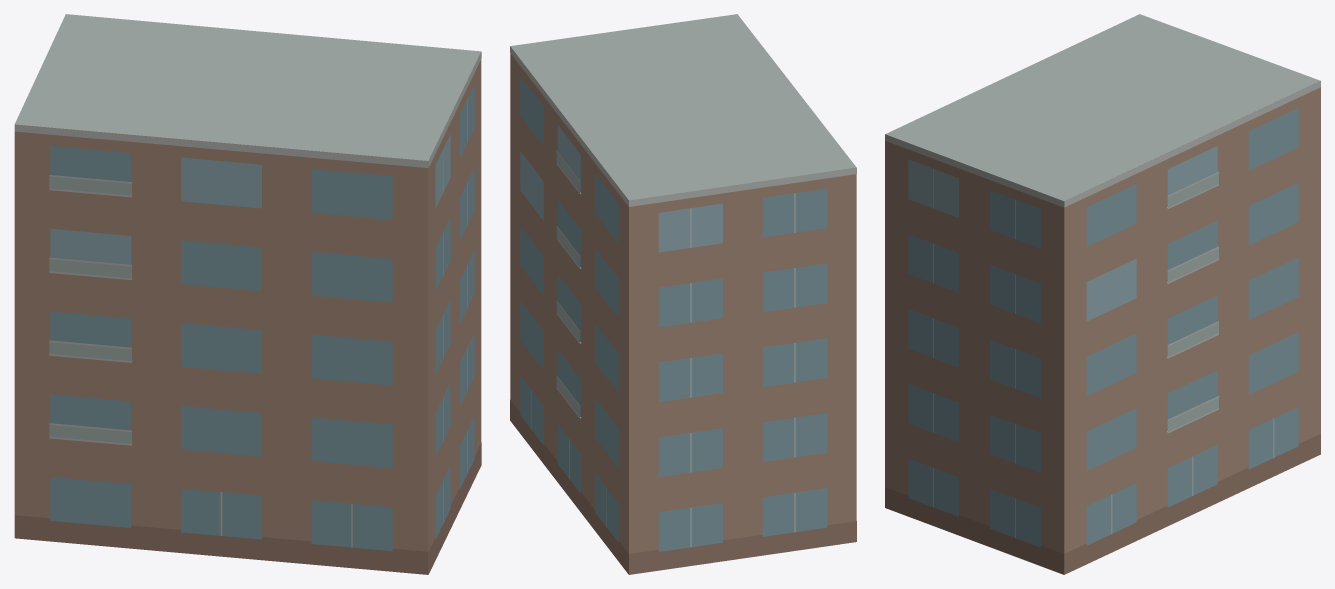
File: survey-upis-32533943.glb
The picture shows the model from 3 angles, left to right: view 1: azimuth 30°, elevation 25°; view 2: azimuth 150°, elevation 25°; view 3: azimuth 270°, elevation 25°; orthographic projection. The views are drawn at different scales.
Parts seen in each view (by area): view 1: survey-upis-32533943.tmp; view 2: survey-upis-32533943.tmp; view 3: survey-upis-32533943.tmp.
Boxes of the visible parts, x1,y1,x2,y2 form: survey-upis-32533943.tmp: [14, 14, 481, 574]; survey-upis-32533943.tmp: [510, 14, 856, 574]; survey-upis-32533943.tmp: [885, 14, 1320, 574].
Size of the model in its own units: 15.27 by 14.2 by 15.02.
